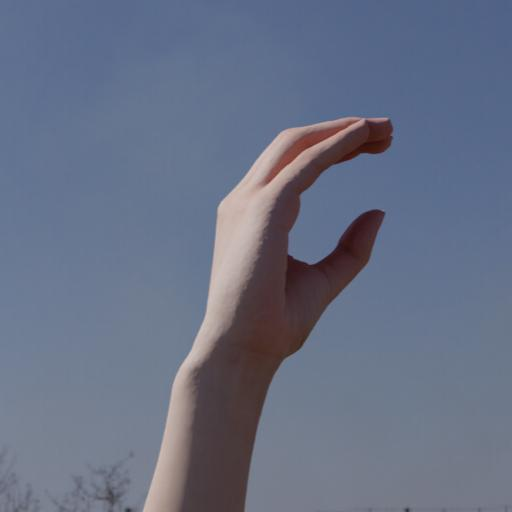C: (168, 108, 400, 379)
